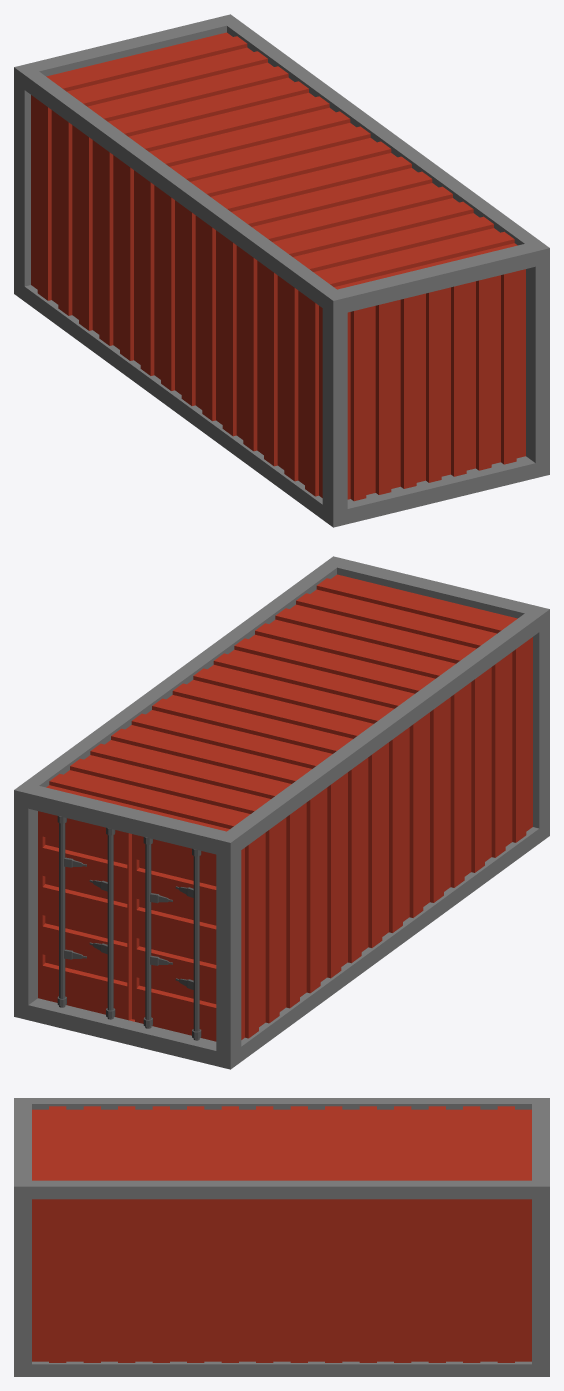
Rendered from container.glb.
The picture shows the model from 3 angles, top to bottom: view 1: azimuth 30°, elevation 25°; view 2: azimuth 150°, elevation 25°; view 3: azimuth 270°, elevation 25°; orthographic projection. The views are drawn at different scales.
Visible parts, largest first — view 1: container; view 2: container; view 3: container.
Part boxes in pixels (bbox=[...]): container: bbox=[14, 14, 549, 527]; container: bbox=[14, 556, 549, 1069]; container: bbox=[14, 1098, 549, 1376].
Bounding box in the file's own units: 2.35 × 2.35 × 6.
